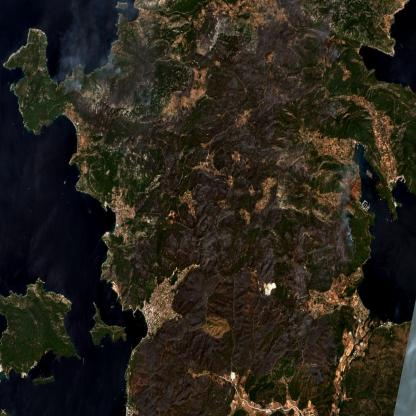fire: (58, 64, 89, 109), (344, 223, 360, 261)
